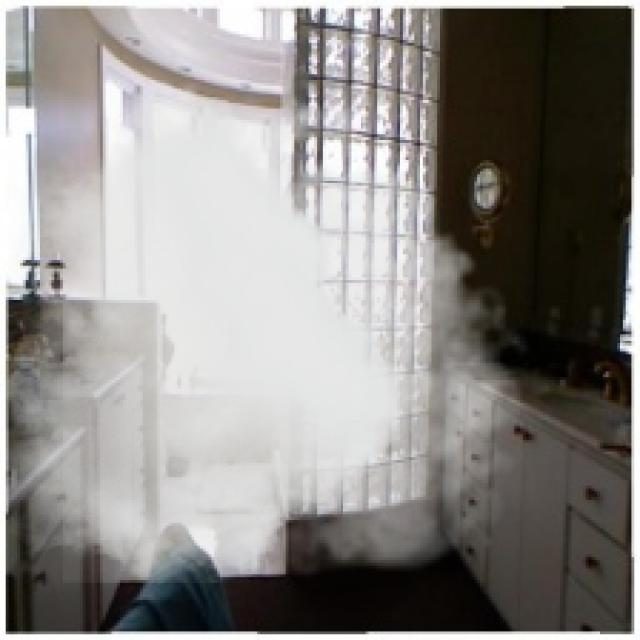smoke: (9, 66, 540, 583)
